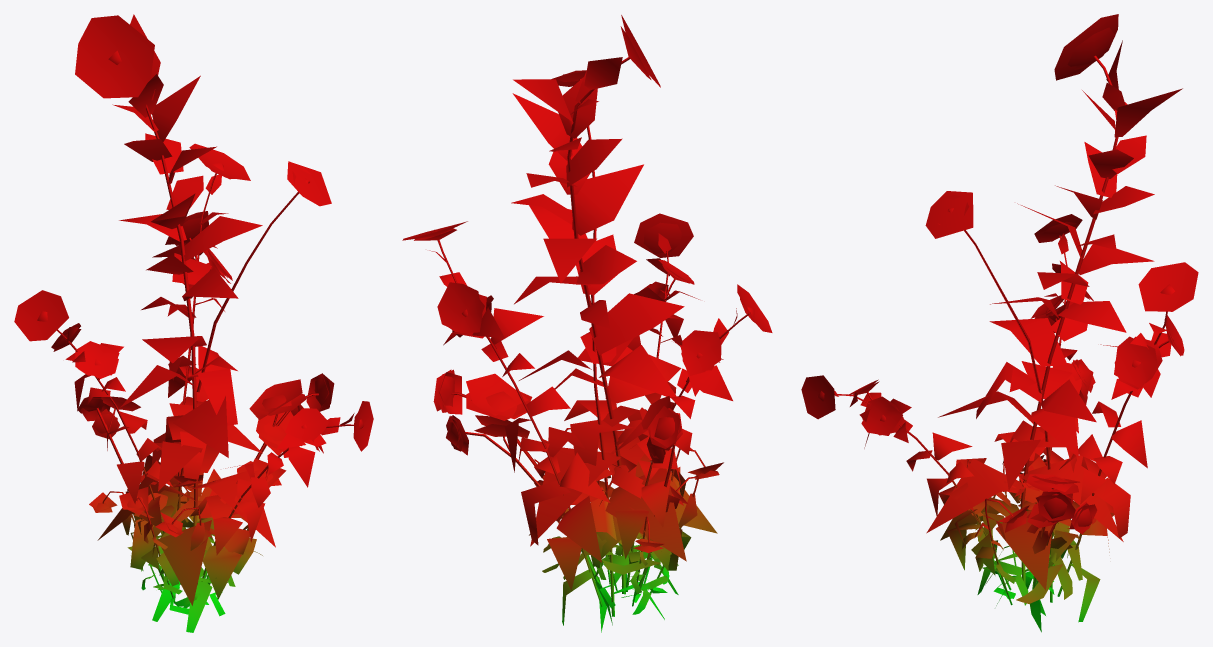
File: Crownbeard_LOD2_Var3_tefoajkr.fbx
3 renders of one model, left to right at view 1: azimuth 30°, elevation 25°; view 2: azimuth 150°, elevation 25°; view 3: azimuth 270°, elevation 25°, orthographic. The views are drawn at different scales.
Parts seen in each view (by area): view 1: _94a6_Var3_LOD2; view 2: _94a6_Var3_LOD2; view 3: _94a6_Var3_LOD2.
Part boxes in pixels (bbox=[...]): _94a6_Var3_LOD2: bbox=[14, 14, 373, 632]; _94a6_Var3_LOD2: bbox=[402, 15, 772, 632]; _94a6_Var3_LOD2: bbox=[801, 14, 1198, 632].
Size of the model in its own units: 37.48 by 69.63 by 42.33.
